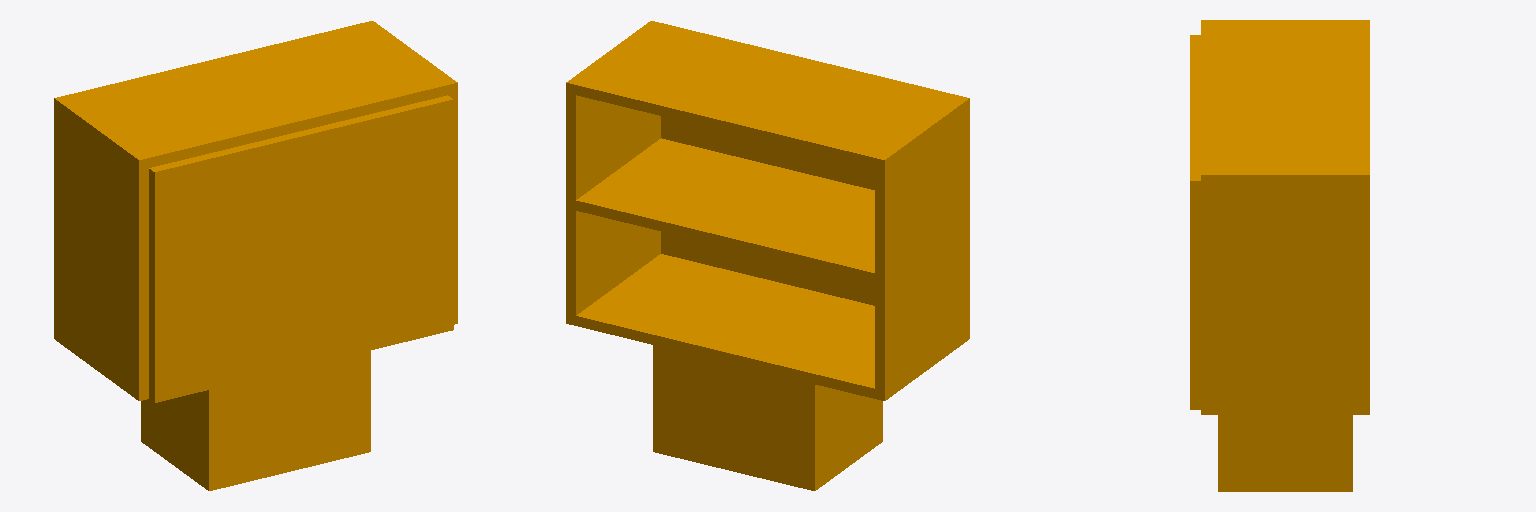
The robot description file, URDF, robot "coolShelves.off":
<?xml version="1.0"?>
<robot name="coolShelves.off">
	<link name="coolShelves.off">
		<inertial>
			<!--origin xyz="0 0 0" rpy="0 0 0" /-->
			<mass value="0.5" />
			<!--inertia ixx="0.000360" ixy="0" ixz="0" iyy="0.0000615" iyz="0" izz="0.00036" /-->
		</inertial>
    		<visual>
	      		<!--origin rpy="0 0 0" xyz="0 0 0"/-->
      			<geometry>
        			<mesh filename="coolShelves.off.obj"/>
      			</geometry>
         	</visual>
    		<collision>
      			<!--origin rpy="0 0 0" xyz="0 0 0"/-->
      			<geometry>
        			<mesh filename="coolShelves.off.obj"/>
      			</geometry>
    		</collision>
	</link>
</robot>

--- Render facts (derived) ---
3 views of the same robot in one strip: view 1: azimuth 30°, elevation 25°; view 2: azimuth 150°, elevation 25°; view 3: azimuth 270°, elevation 25° (orthographic).
Model coolShelves.off with 1 links and 0 joints (none), rooted at coolShelves.off, posed every joint at zero.
Links seen in each view (by area): view 1: coolShelves.off; view 2: coolShelves.off; view 3: coolShelves.off.
Boxes of the visible links, x1,y1,x2,y2 form: coolShelves.off: [54, 21, 457, 490]; coolShelves.off: [566, 21, 969, 490]; coolShelves.off: [1190, 20, 1369, 491].
Bounding box of the posed robot: 0.65 × 0.32 × 0.695 m (x, y, z).
1 mesh visuals loaded from 1 distinct referenced files (1 OBJ).